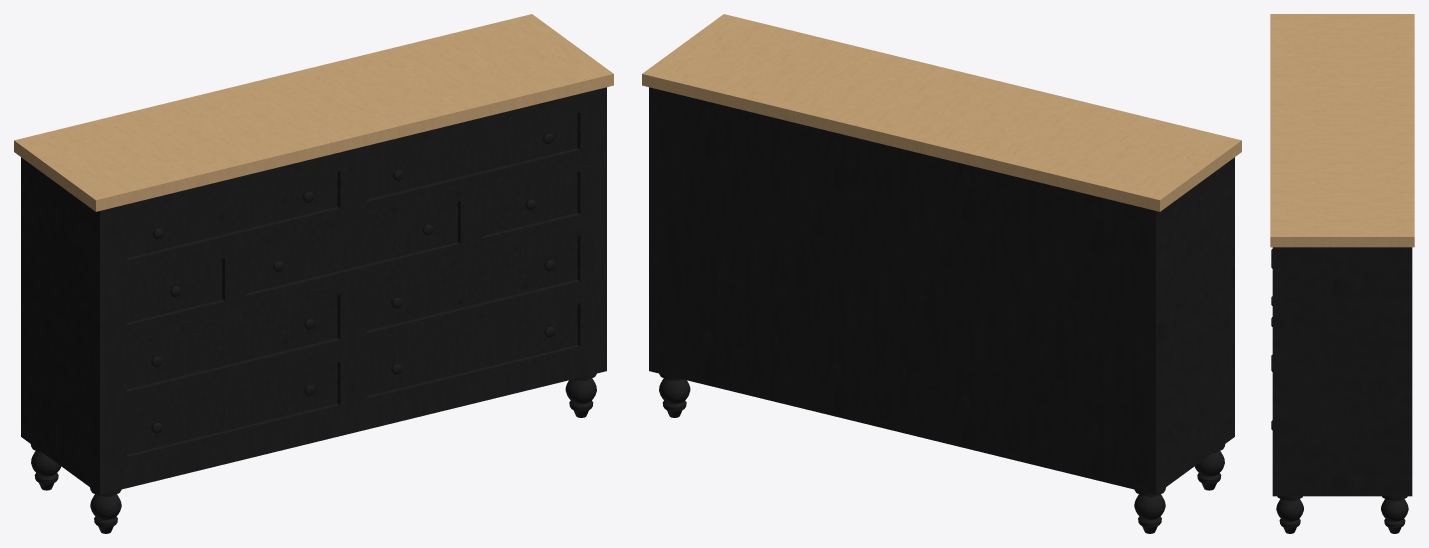
Rendered from Drawer31.fbx.
3 views of the same model, side by side, from view 1: azimuth 30°, elevation 25°; view 2: azimuth 150°, elevation 25°; view 3: azimuth 270°, elevation 25° (orthographic). The views are drawn at different scales.
Parts seen in each view (by area): view 1: Drawer31_Body, Drawer31_6, Drawer31_7, Drawer31_8, Drawer31_9, Drawer31_4, Drawer31_2, Drawer31_1, Drawer31_3, Drawer31_5; view 2: Drawer31_Body; view 3: Drawer31_Body.
Part boxes in pixels (x1=…): Drawer31_Body: x1=14, y1=14, x2=613, y2=533; Drawer31_6: x1=118, y1=284, x2=348, y2=402; Drawer31_7: x1=358, y1=225, x2=588, y2=343; Drawer31_8: x1=118, y1=351, x2=348, y2=467; Drawer31_9: x1=358, y1=292, x2=588, y2=408; Drawer31_4: x1=238, y1=190, x2=468, y2=306; Drawer31_2: x1=358, y1=102, x2=588, y2=212; Drawer31_1: x1=118, y1=160, x2=348, y2=270; Drawer31_3: x1=118, y1=248, x2=233, y2=335; Drawer31_5: x1=474, y1=161, x2=588, y2=248; Drawer31_Body: x1=642, y1=14, x2=1241, y2=533; Drawer31_Body: x1=1270, y1=14, x2=1414, y2=533.
Size of the model in its own units: 189 by 120 by 51.81.
